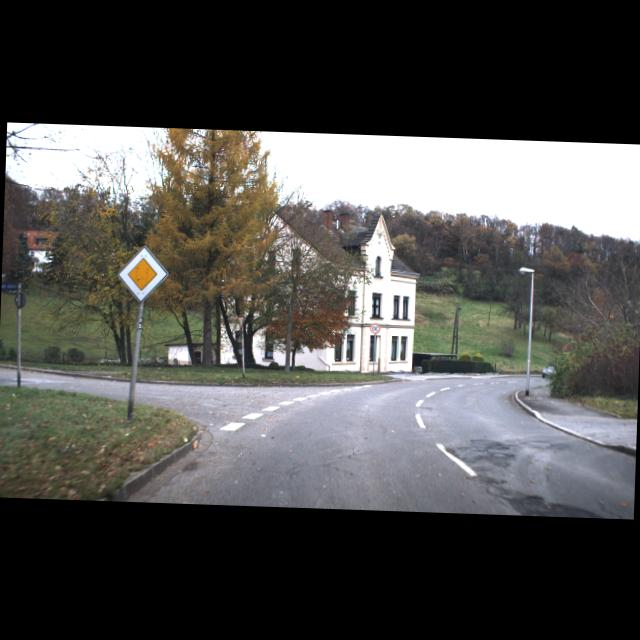other: (116, 244, 170, 302)
prohibitory: (370, 322, 380, 332)
